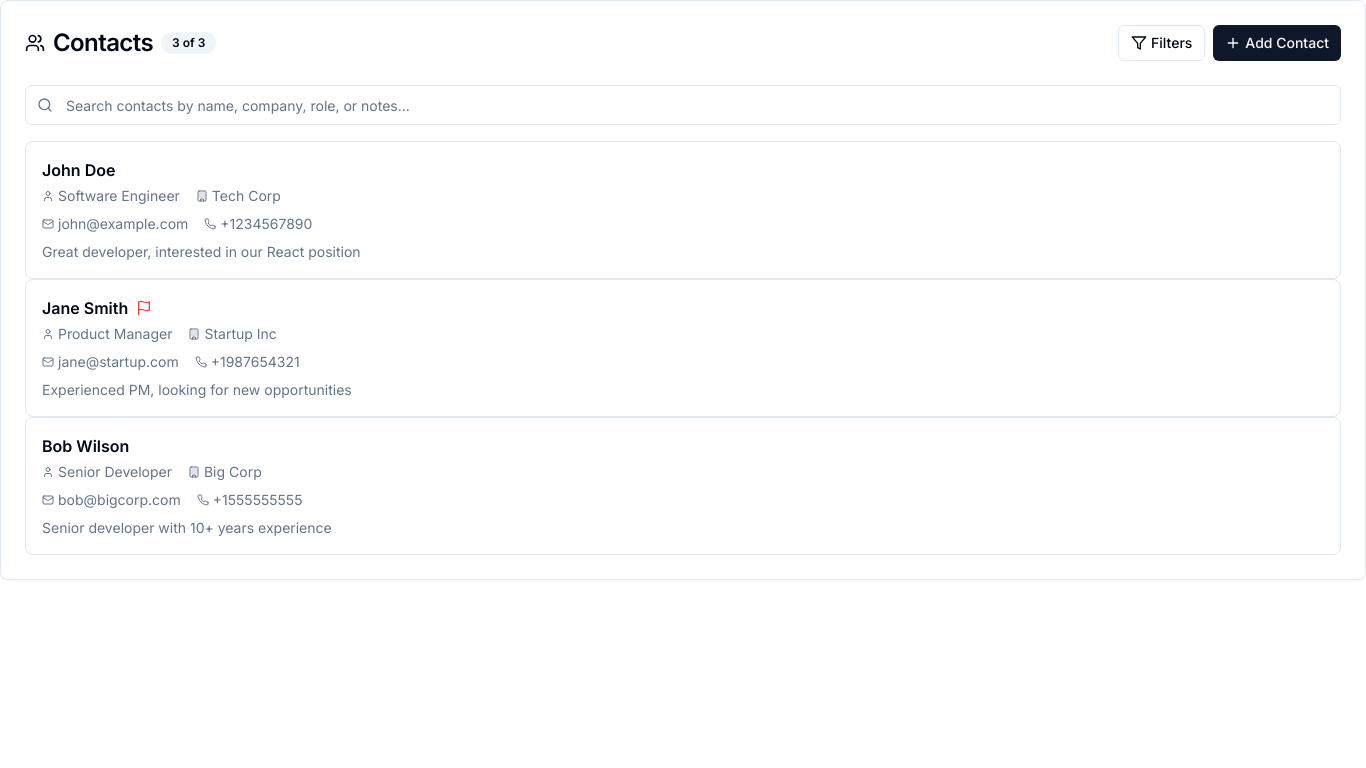
Test case: ContactList › Filter Functionality › should clear all filters when clear all button is clicked
This screenshot has width=1366, height=768.
// Open filters and apply some filters
Click the button "Filters" at (1162, 43), box [1118,25,1205,61]
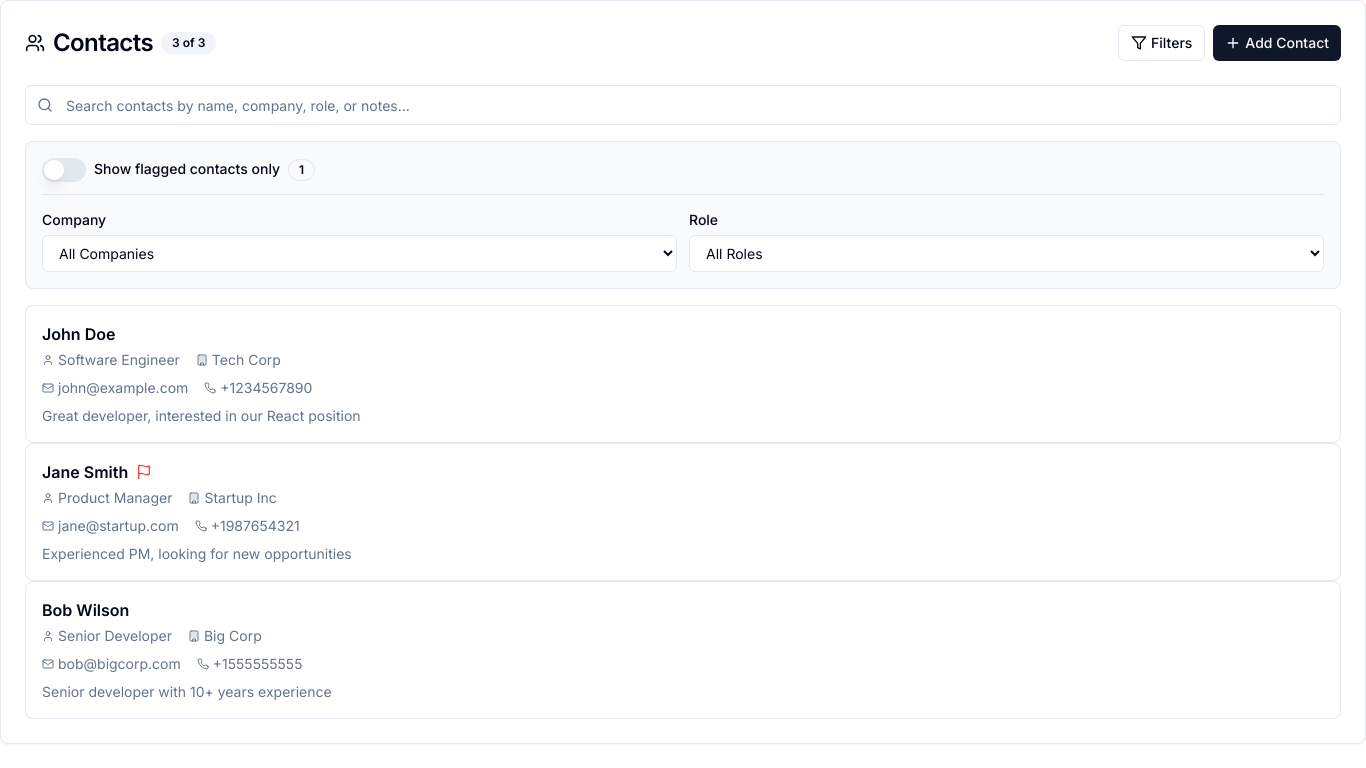
Click the switch named "show flagged contacts only" at (64, 170), box [42,158,86,182]
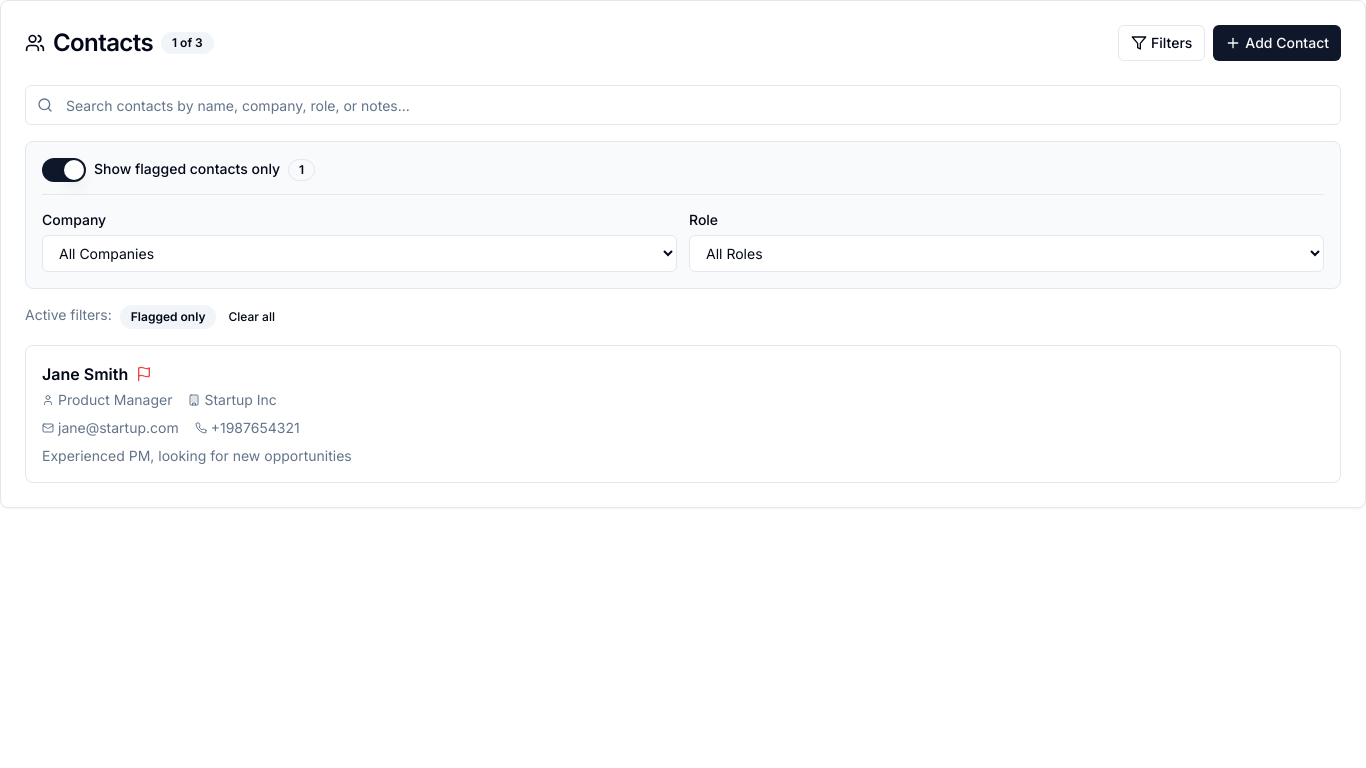
// Clear all filters
Click the button "Clear all" at (252, 317), box [224,305,279,329]
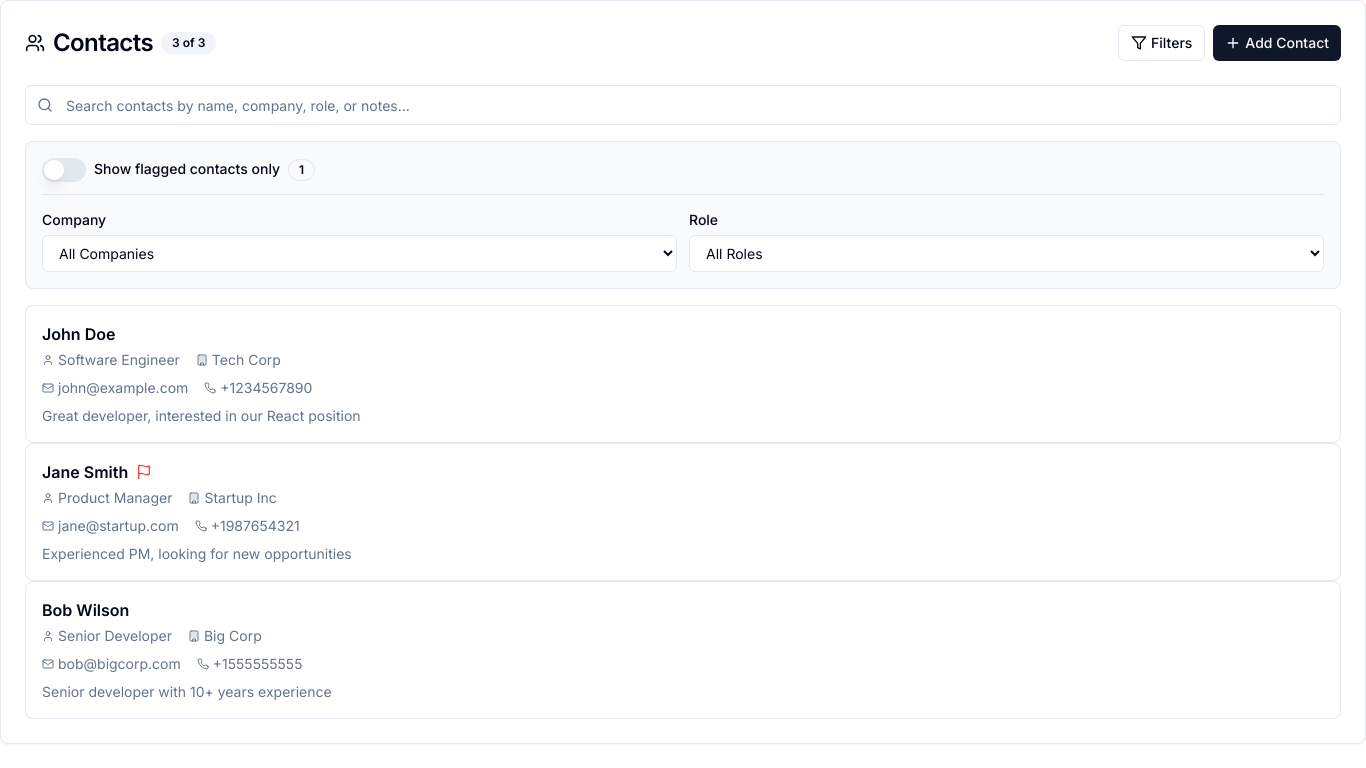
Expected: the heading "John Doe" is shown, [42,322,115,346]
Expected: the heading "Bob Wilson" is shown, [42,598,129,622]
Expected: the text "3 of 3" is shown, [161,32,216,54]
